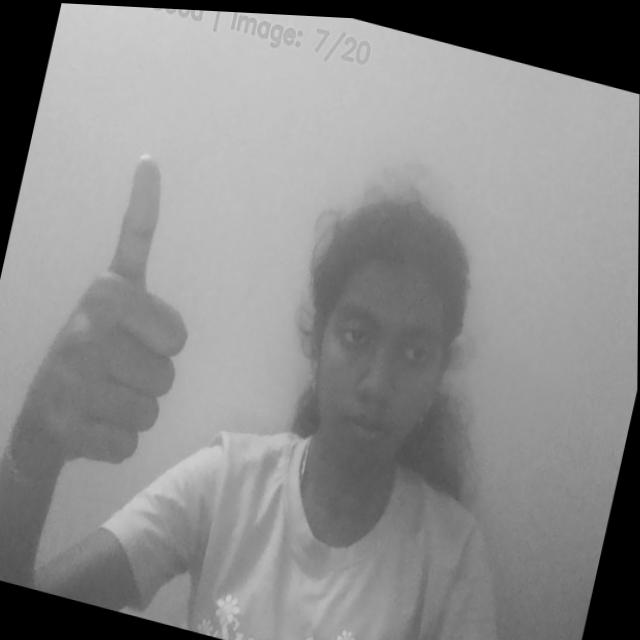Good: (0, 127, 230, 495)
